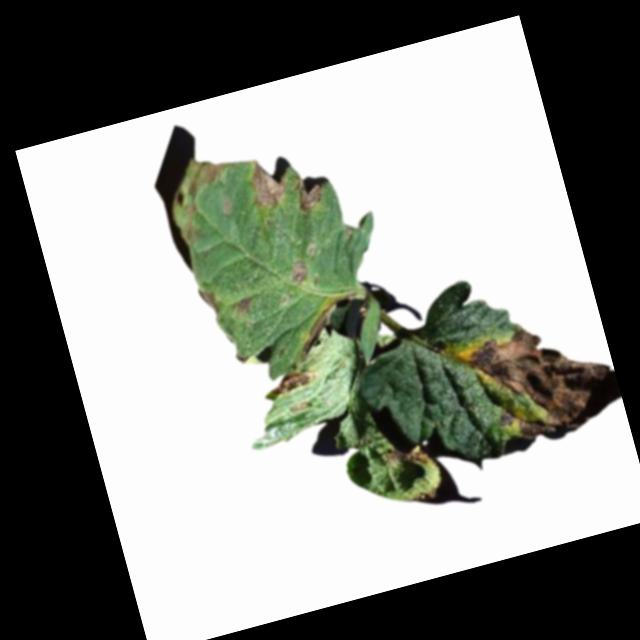Early_blight: (453, 308, 625, 451), (289, 304, 345, 359), (242, 152, 291, 212), (381, 439, 434, 476), (265, 366, 320, 399), (293, 171, 329, 215), (197, 286, 219, 319), (286, 258, 311, 285), (234, 297, 254, 316)
